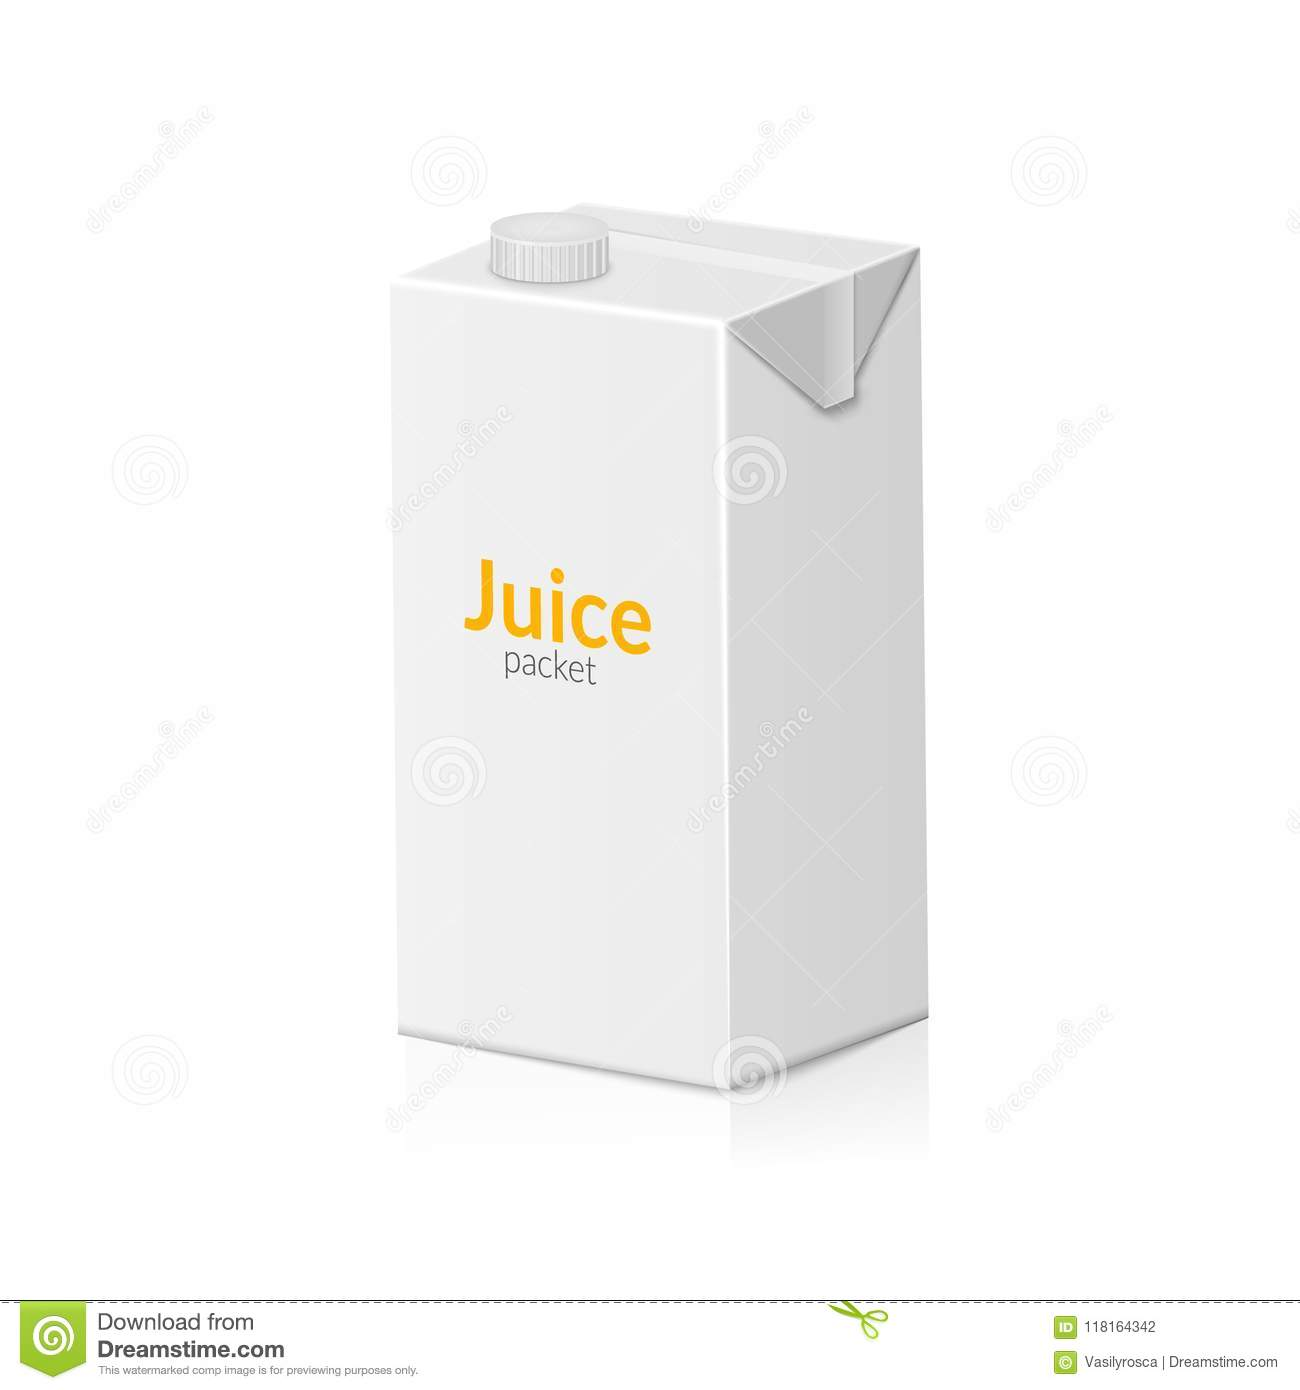carton: (334, 133, 980, 1155)
